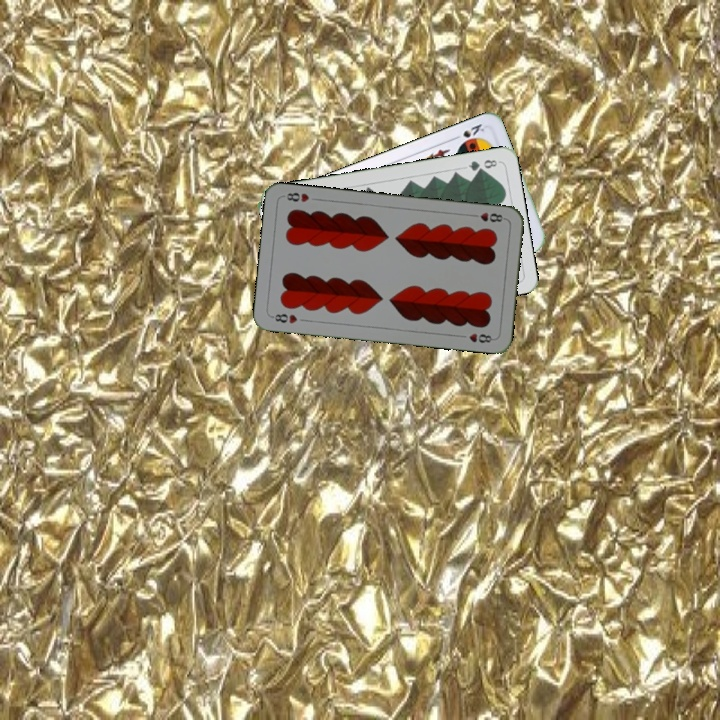G8: (464, 155, 500, 174)
H8: (467, 208, 508, 225), (268, 310, 300, 326)
SK: (448, 120, 487, 143)
